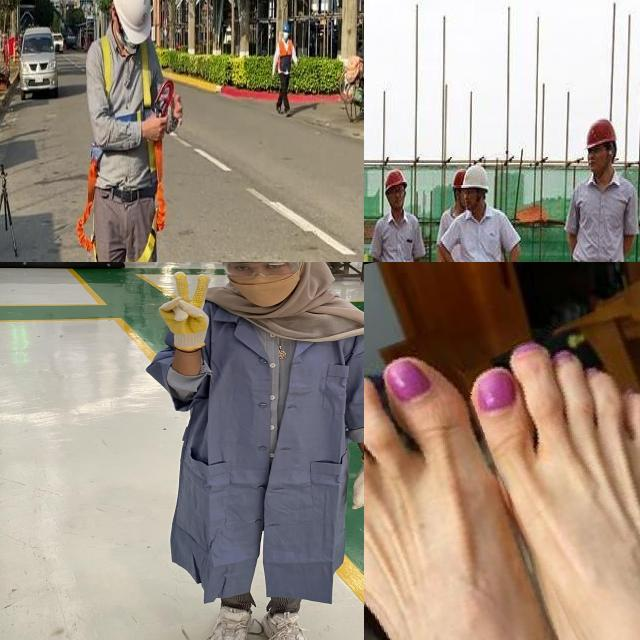Barefoots: (476, 304, 640, 640), (364, 354, 556, 640)
Harness: (101, 35, 175, 122), (76, 151, 113, 262), (134, 141, 166, 262)
face_mask: (225, 262, 298, 312)
face_nomask: (584, 146, 604, 174), (460, 188, 481, 210), (388, 186, 408, 208)
glasses: (218, 262, 309, 281)
hand_glove: (152, 272, 220, 343), (345, 457, 364, 507)
head_helmet: (582, 119, 622, 150), (453, 163, 492, 191), (382, 166, 409, 192)
person: (140, 262, 364, 640), (560, 117, 639, 262), (454, 162, 526, 262), (364, 164, 429, 262)
shoes: (196, 597, 260, 640), (252, 602, 314, 640)
